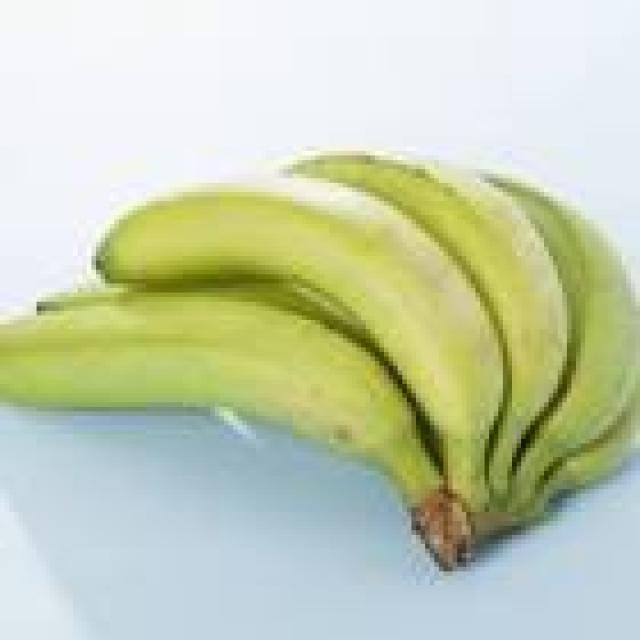banana: (96, 174, 502, 511), (0, 293, 470, 566), (293, 156, 566, 498), (494, 179, 639, 507), (476, 389, 639, 543), (37, 279, 370, 347), (540, 389, 639, 502)
